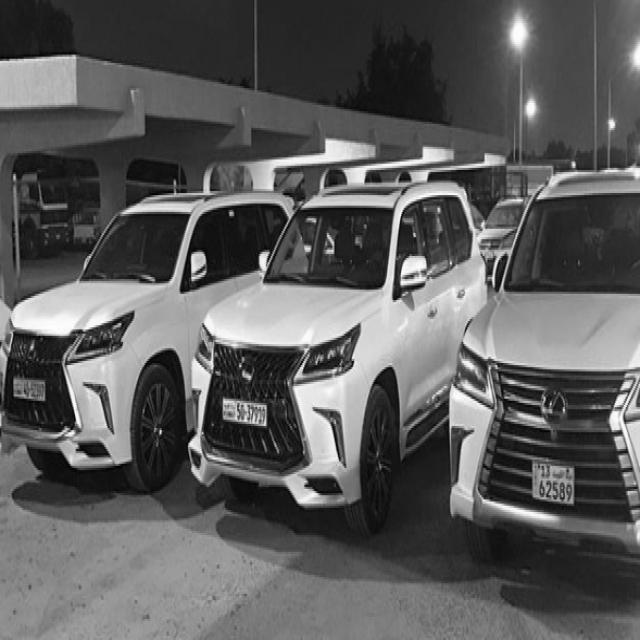licenseplate: (531, 458, 577, 506), (219, 395, 269, 430), (10, 371, 48, 403)
